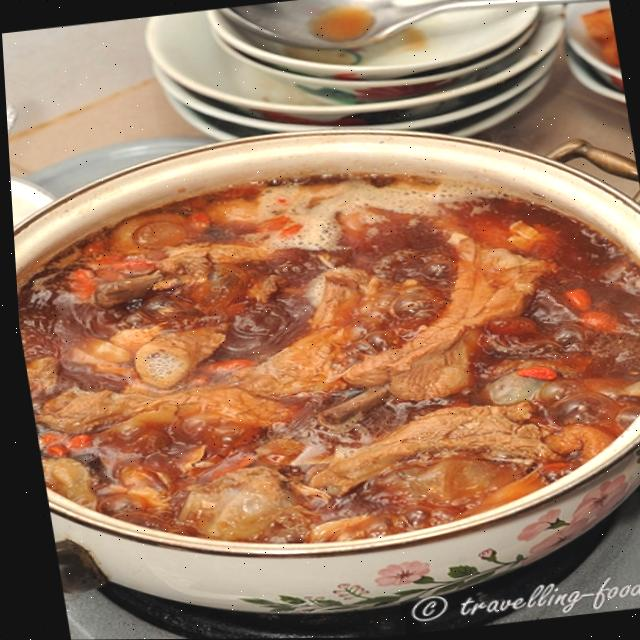汤锅炖物: (6, 129, 640, 582)
